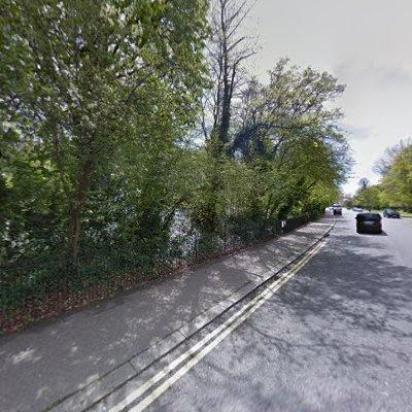moving-car: (357, 211, 383, 233), (384, 207, 400, 217)
stationary-light-truck-onstreet: (332, 203, 344, 217)
